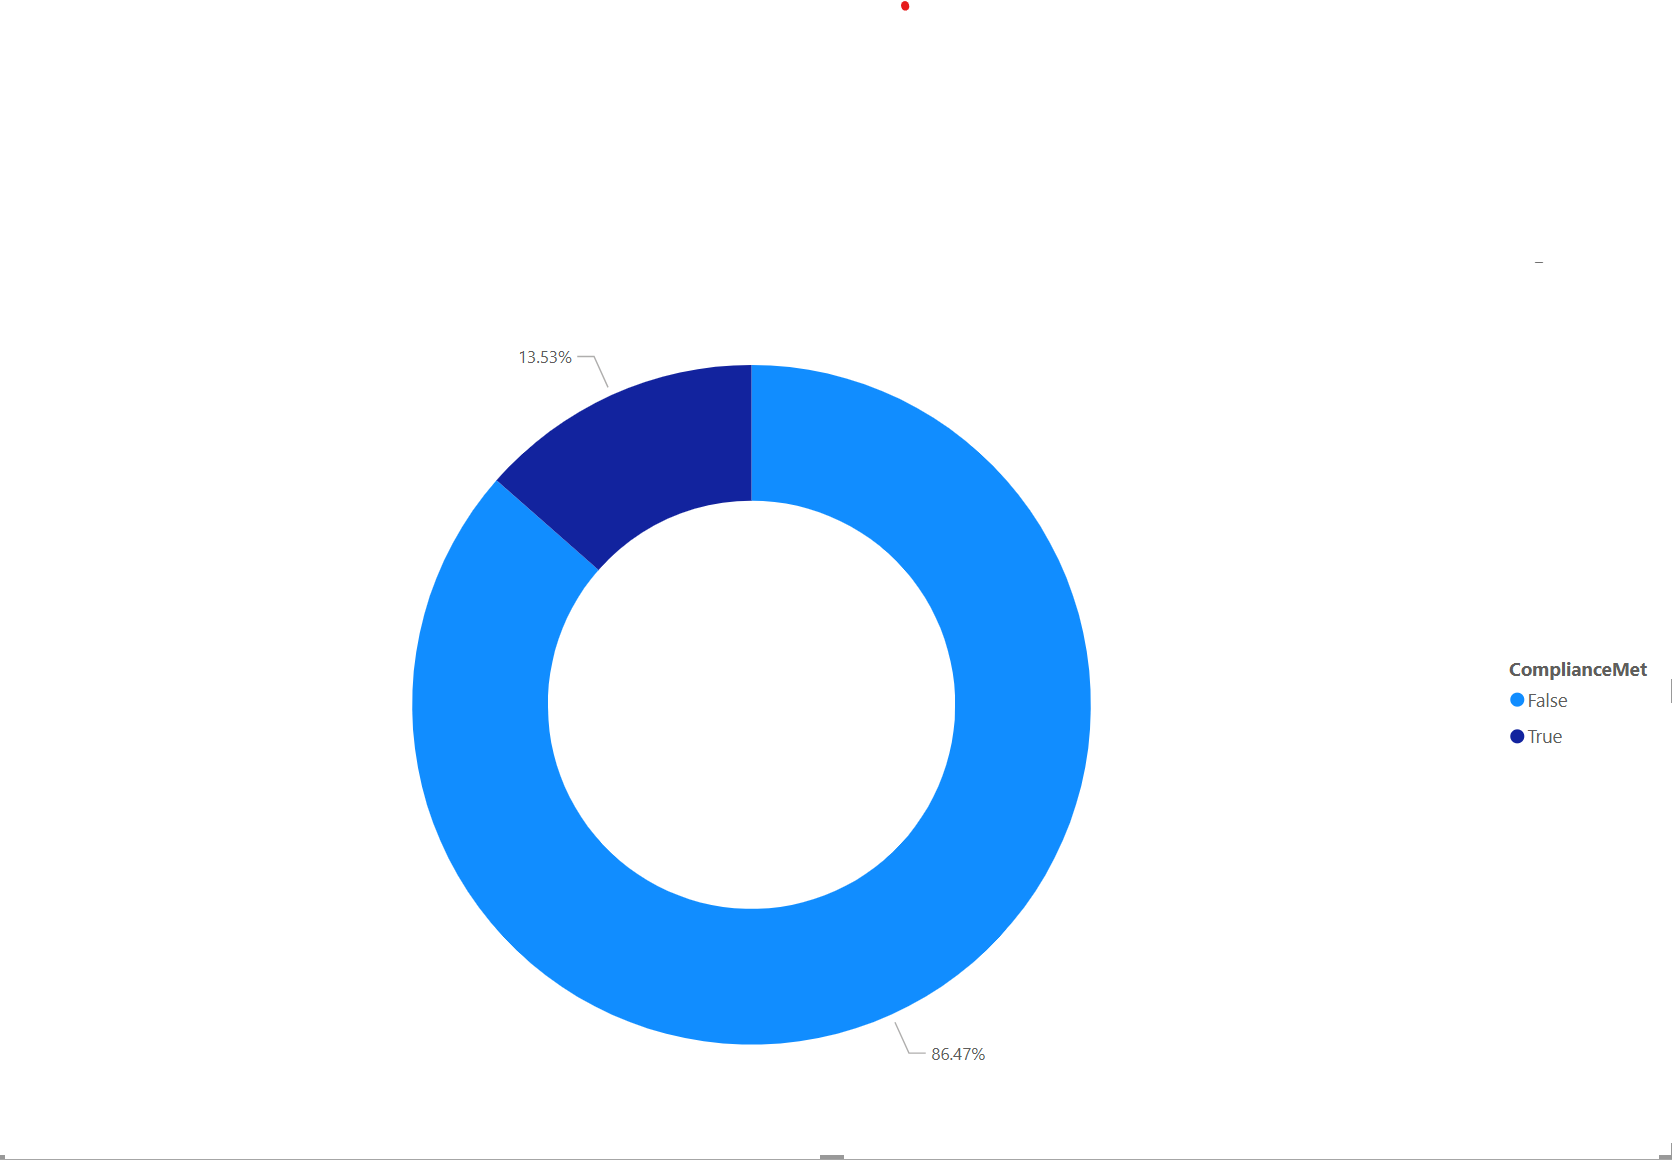

Layout of this report page (visuals, bound fields, positions):
{"tool":"powerbi","page":{"name":"Page 1","canvas":[1280,720],"ordinal":0},"visuals":[{"type":"donutChart","title":": “Compliance Breakdown”","fields":{"Y":["Compliance Summary.MRN"],"Series":["Compliance Summary.ComplianceMet"]},"box":[294.5,29.6,279.7,281.6],"z":0}]}

Visuals, with their boxes on the page's 1280x720 design canvas (x1, y1, x2, y2). These are canvas units, not pixel positions in the 1672x1160 screenshot, which may show the page scaled, cropped or inside an application window:
": “Compliance Breakdown”" donutChart: {"left": 294, "top": 30, "right": 574, "bottom": 311}
